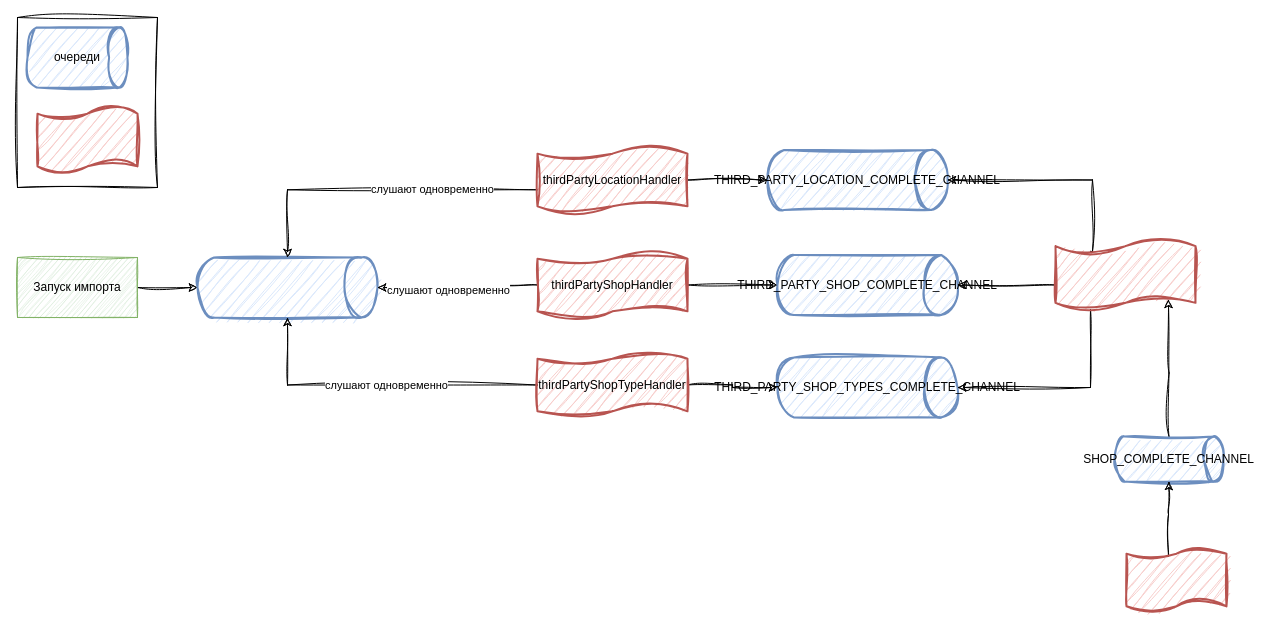
This 1274x631 diagram has some shape labels left out. The shapes that lost their labels are listed below. From the top down, each one's centre as x and y in pixels, then its label:
[87,139]: обработчики
[287,287]: START_INTEGRATION_CHANNEL
[1125,274]: ThirdPartyApiShopTransformHandler
[1176,579]: SaveShopsToJsonFileHandler
